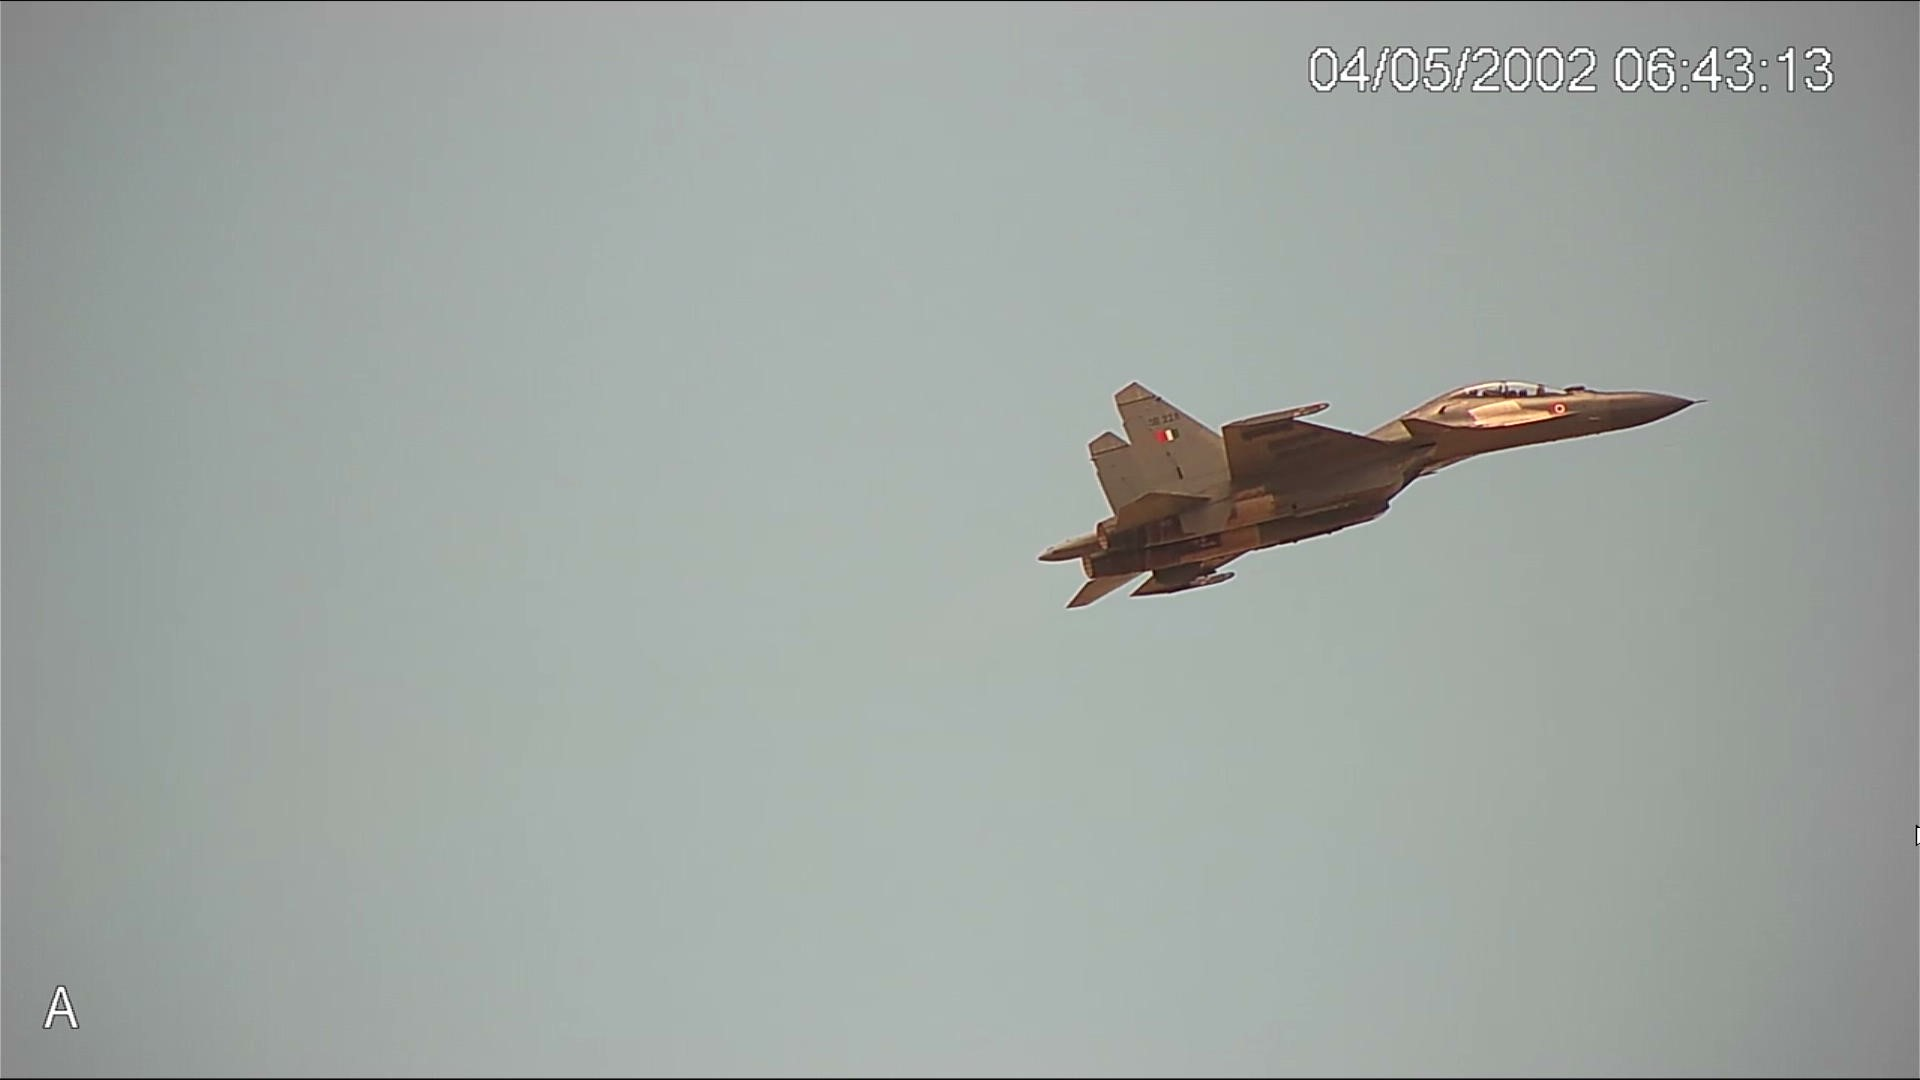SU_30: (1031, 365, 1722, 607)
